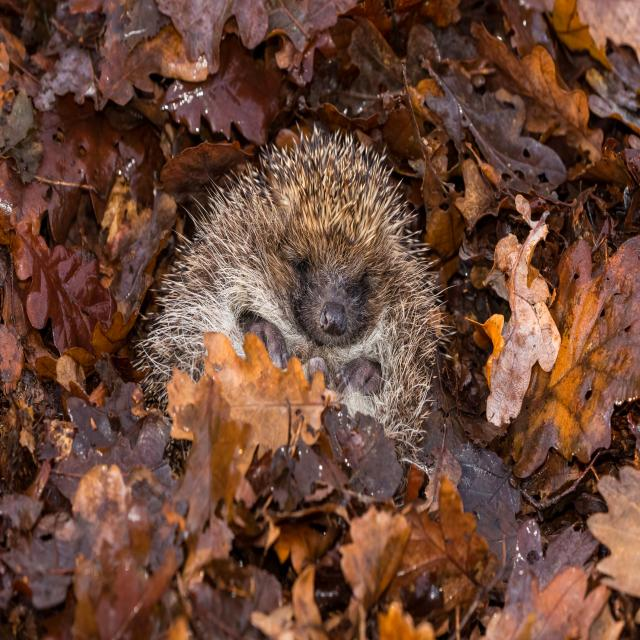hedgehog: (137, 129, 443, 452)
